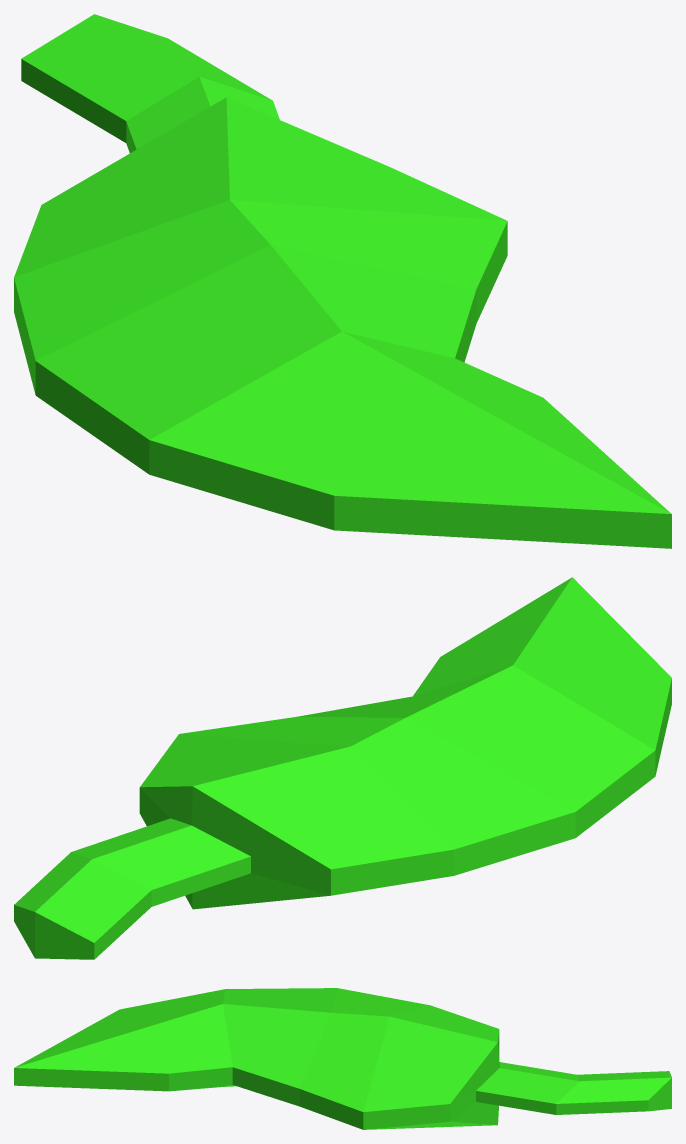
The model's file is Leaf.FBX.
3 renders of one model, top to bottom at view 1: azimuth 30°, elevation 25°; view 2: azimuth 150°, elevation 25°; view 3: azimuth 270°, elevation 25°, orthographic. The views are drawn at different scales.
Parts seen in each view (by area): view 1: Leaf; view 2: Leaf; view 3: Leaf.
Boxes of the visible parts, x1,y1,x2,y2 form: Leaf: [14, 14, 671, 548]; Leaf: [14, 577, 671, 959]; Leaf: [14, 988, 671, 1129].
Size of the model in its own units: 15.45 by 4.82 by 34.59.
